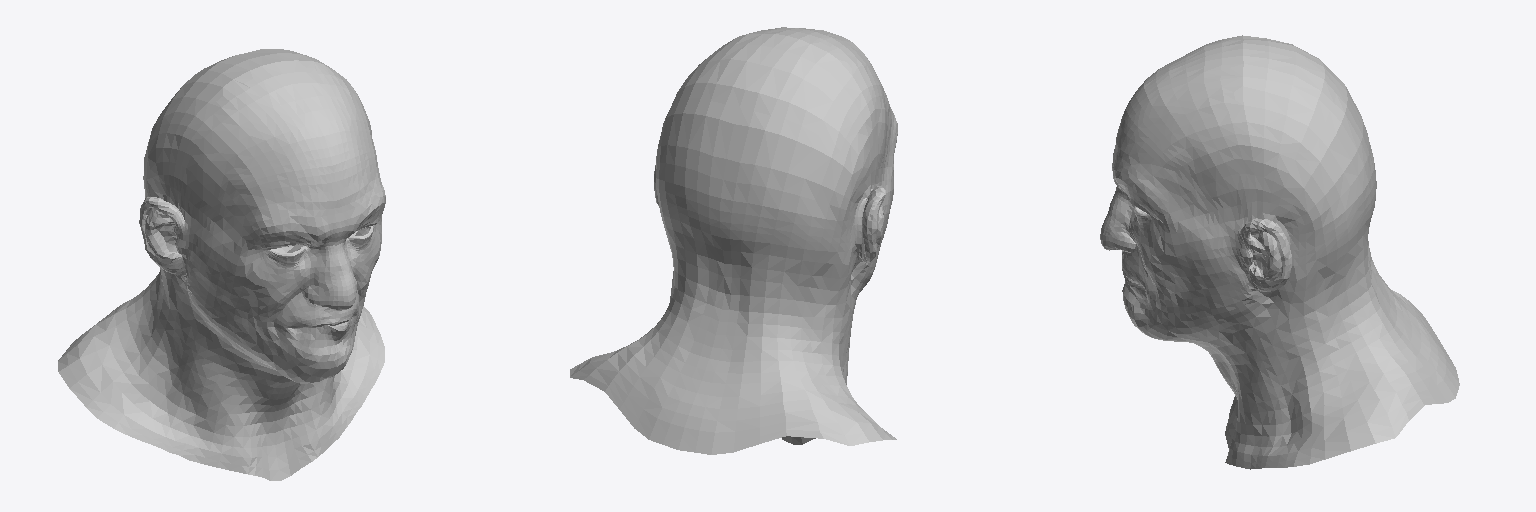
The model's file is Victor_lipbite.obj.
3 renders of one model, left to right at view 1: azimuth 30°, elevation 25°; view 2: azimuth 150°, elevation 25°; view 3: azimuth 270°, elevation 25°, orthographic.
Parts seen in each view (by area): view 1: Victor_headGEO Victor_Mesh def:geo FTI_Victor; view 2: Victor_headGEO Victor_Mesh def:geo FTI_Victor; view 3: Victor_headGEO Victor_Mesh def:geo FTI_Victor.
Boxes of the visible parts, box(x1,y1,x2,y2) form: Victor_headGEO Victor_Mesh def:geo FTI_Victor: box(58, 49, 385, 480); Victor_headGEO Victor_Mesh def:geo FTI_Victor: box(570, 27, 897, 454); Victor_headGEO Victor_Mesh def:geo FTI_Victor: box(1100, 35, 1459, 469).
Bounding box in the file's own units: 3.54 × 4.64 × 3.65.